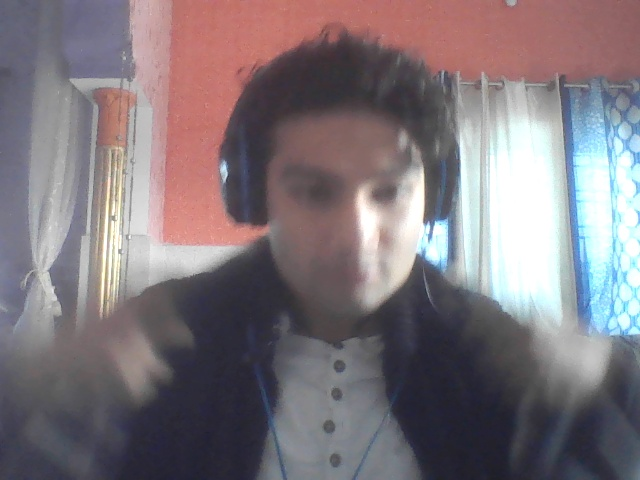real: (226, 25, 449, 341)
